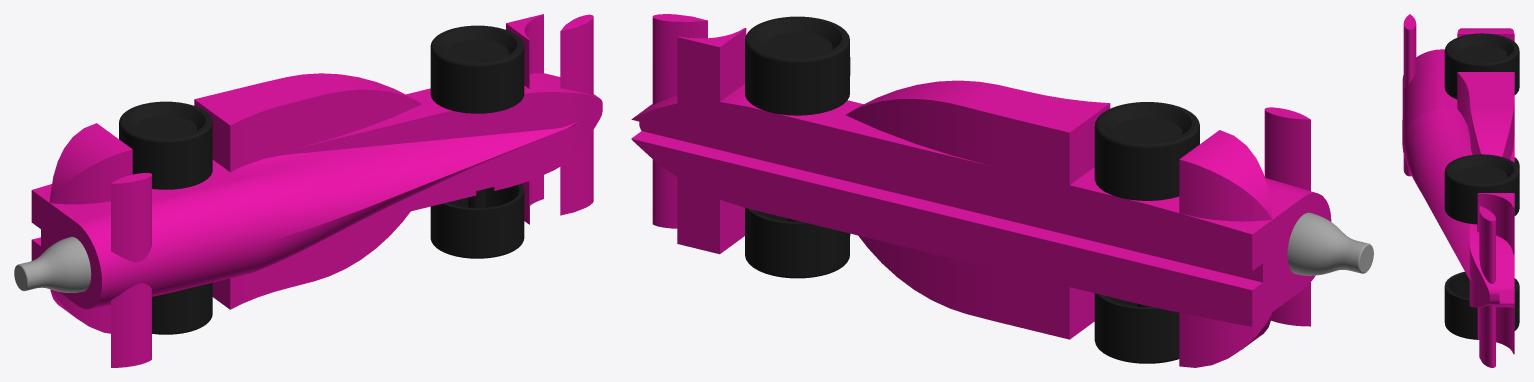
The model's file is 1 - Vega Dev Regionals.fbx.
3 renders of one model, left to right at view 1: azimuth 30°, elevation 25°; view 2: azimuth 150°, elevation 25°; view 3: azimuth 270°, elevation 25°, orthographic. The views are drawn at different scales.
Visible parts, largest first — view 1: Body4, Body2 (×2), Body1; view 2: Body4, Body2 (×2), Body1; view 3: Body4, Body2 (×2).
Part boxes in pixels (x1,y1,x2,y2): Body4: (31, 14, 602, 367); Body2 (×2): (119, 25, 524, 334); Body1: (14, 237, 91, 292); Body4: (631, 14, 1331, 367); Body2 (×2): (745, 16, 1199, 363); Body1: (1287, 212, 1373, 275); Body4: (1402, 14, 1514, 367); Body2 (×2): (1444, 33, 1519, 339).
Bounding box in the file's own units: 226 × 69 × 47.
